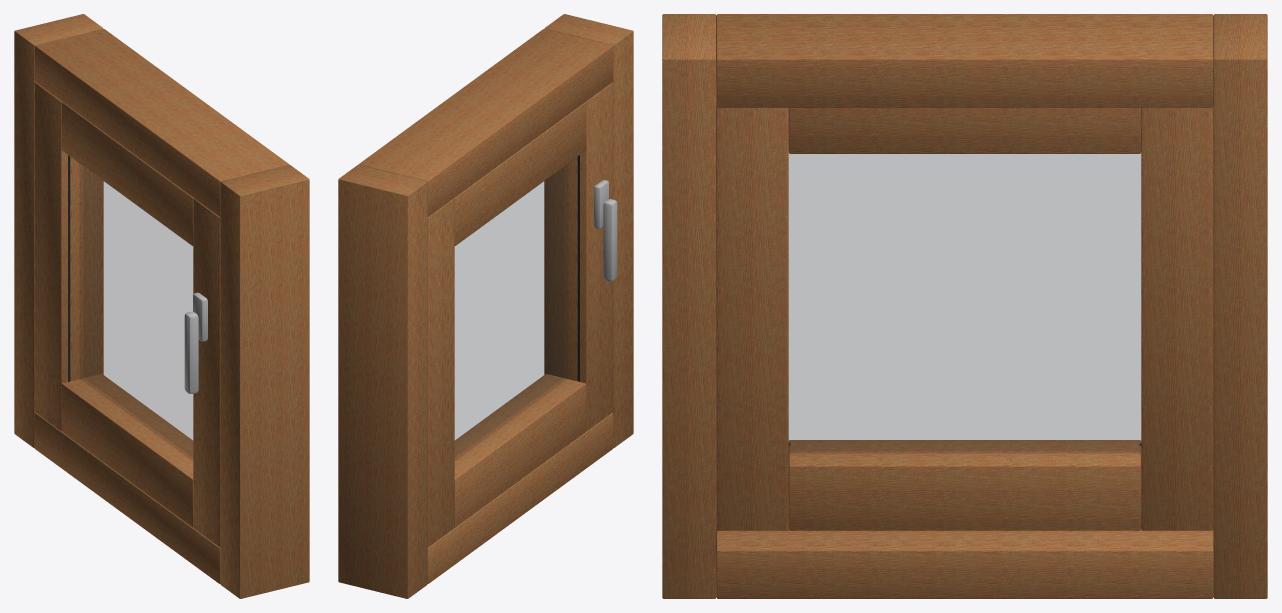
The model's file is reckO3t4pe3RzLHWD.glb.
3 renders of one model, left to right at view 1: azimuth 30°, elevation 25°; view 2: azimuth 150°, elevation 25°; view 3: azimuth 270°, elevation 25°, orthographic. The views are drawn at different scales.
Visible parts, largest first — view 1: fenetre_douche_etage__cadre, fenetre_douche_etage__ouvrant; view 2: fenetre_douche_etage__cadre, fenetre_douche_etage__ouvrant; view 3: fenetre_douche_etage__ouvrant, fenetre_douche_etage__cadre.
Part boxes in pixels (x1,y1,x2,y2): fenetre_douche_etage__cadre: (14, 14, 309, 598); fenetre_douche_etage__ouvrant: (34, 82, 220, 547); fenetre_douche_etage__cadre: (338, 14, 633, 598); fenetre_douche_etage__ouvrant: (427, 82, 617, 547); fenetre_douche_etage__ouvrant: (716, 106, 1213, 530); fenetre_douche_etage__cadre: (662, 14, 1267, 598).
Size of the model in its own units: 0.15 by 0.66 by 0.67.
Materials: 4 (2 with a texture image).
